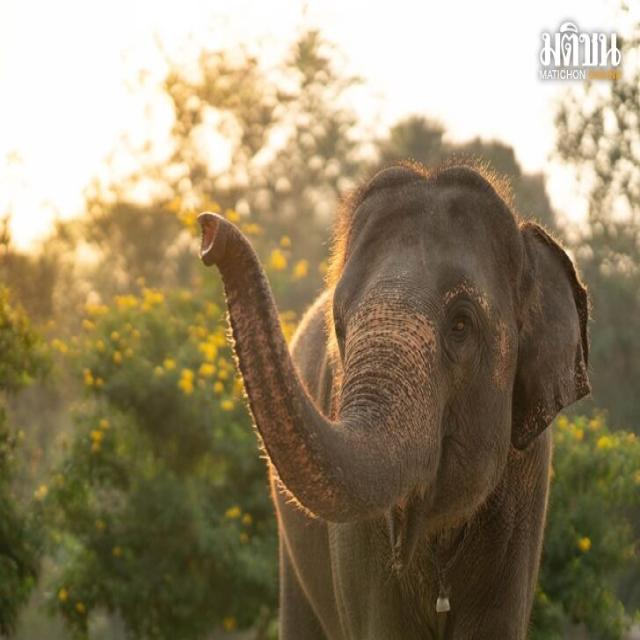Elephant: (180, 119, 618, 640)
